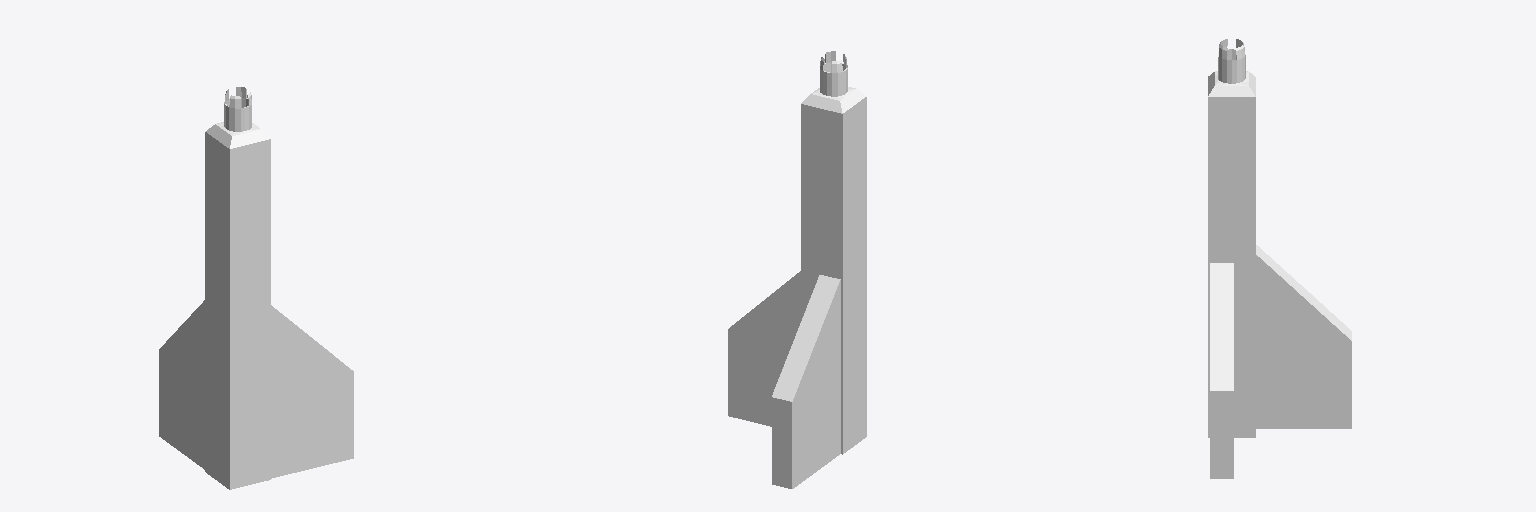
Rendered from CornerConnector.obj.
3 views of the same model, side by side, from view 1: azimuth 30°, elevation 25°; view 2: azimuth 150°, elevation 25°; view 3: azimuth 270°, elevation 25° (orthographic).
Parts seen in each view (by area): view 1: CornerConnector; view 2: CornerConnector; view 3: CornerConnector.
Boxes of the visible parts, x1=… form: CornerConnector: x1=159, y1=87, x2=353, y2=489; CornerConnector: x1=728, y1=51, x2=866, y2=488; CornerConnector: x1=1208, y1=39, x2=1351, y2=478.
Size of the model in its own units: 0.75 by 2.2 by 0.75.